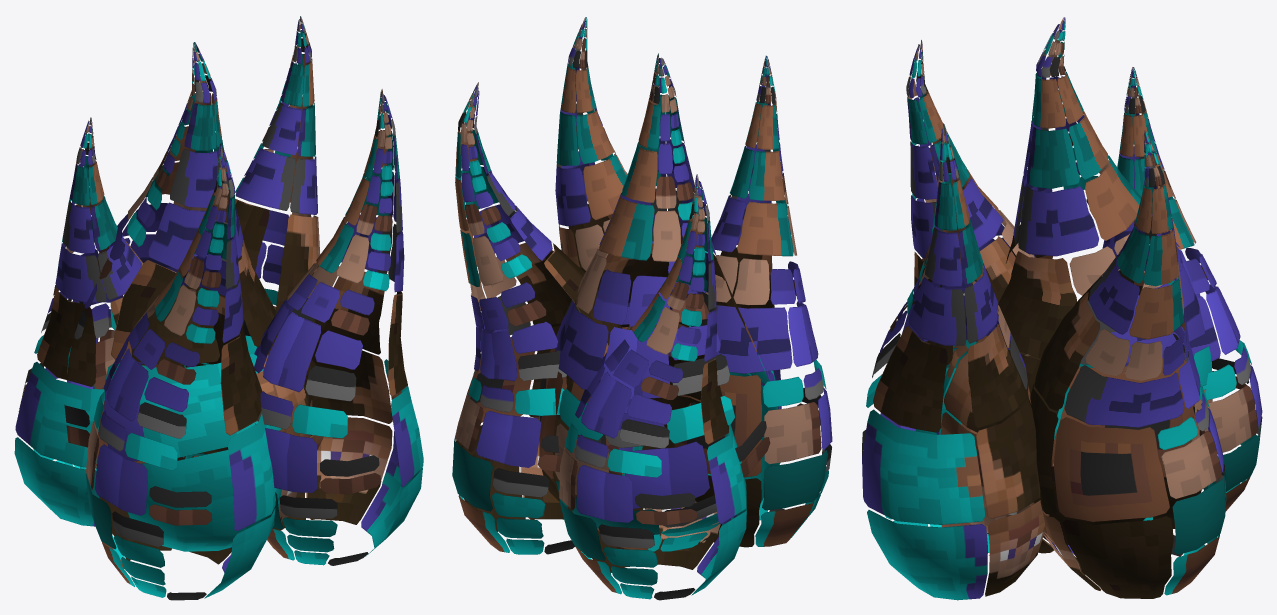
The picture shows the model from 3 angles, left to right: view 1: azimuth 30°, elevation 25°; view 2: azimuth 150°, elevation 25°; view 3: azimuth 270°, elevation 25°; orthographic projection. The views are drawn at different scales.
Visible parts, largest first — view 1: flame_NurbsPath.015; view 2: flame_NurbsPath.015; view 3: flame_NurbsPath.015.
Boxes of the visible parts, left/top/right/bottom form: flame_NurbsPath.015: left=14, top=16, right=423, bottom=600; flame_NurbsPath.015: left=452, top=17, right=832, bottom=600; flame_NurbsPath.015: left=862, top=17, right=1262, bottom=600.
Size of the model in its own units: 0.7393 by 1.2 by 0.813.
